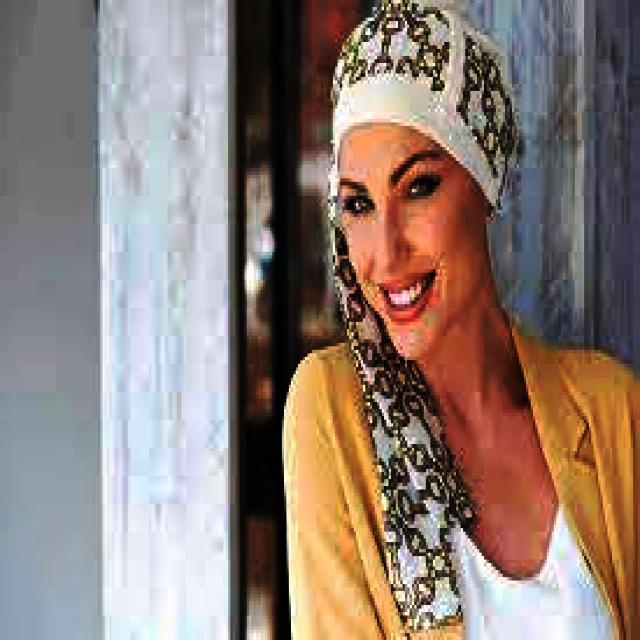TOPI: (323, 0, 519, 217)
